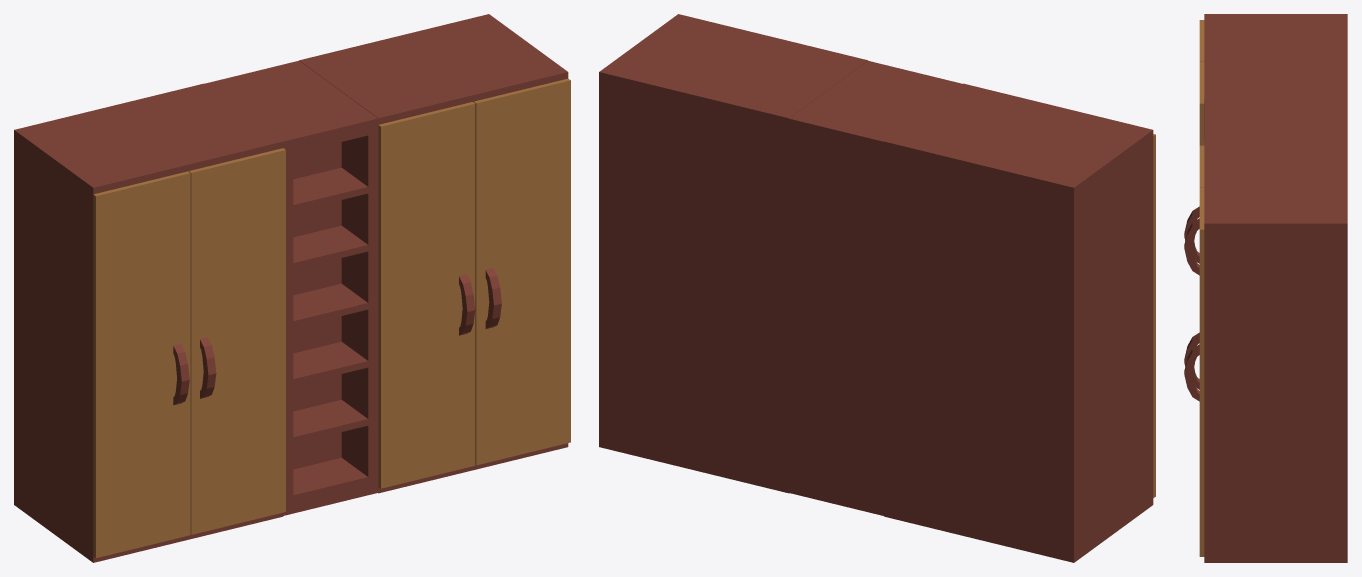
File: Twin Wardrobe.fbx
3 views of the same model, side by side, from view 1: azimuth 30°, elevation 25°; view 2: azimuth 150°, elevation 25°; view 3: azimuth 270°, elevation 25° (orthographic). The views are drawn at different scales.
Parts seen in each view (by area): view 1: Twin Wardrobe; view 2: Twin Wardrobe; view 3: Twin Wardrobe.
Boxes of the visible parts, x1,y1,x2,y2 form: Twin Wardrobe: (14,14,570,562); Twin Wardrobe: (599,14,1155,562); Twin Wardrobe: (1184,14,1347,562).
Bounding box in the file's own units: 3.4 × 2.57 × 1.12.
